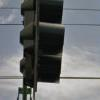Traffic light: (8, 0, 79, 89)
